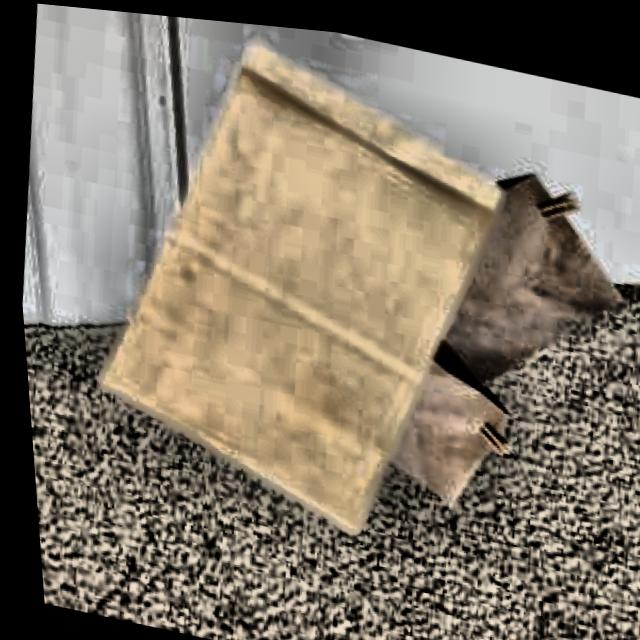Paper-bag: (51, 4, 531, 581), (343, 115, 640, 425), (276, 292, 534, 513)
